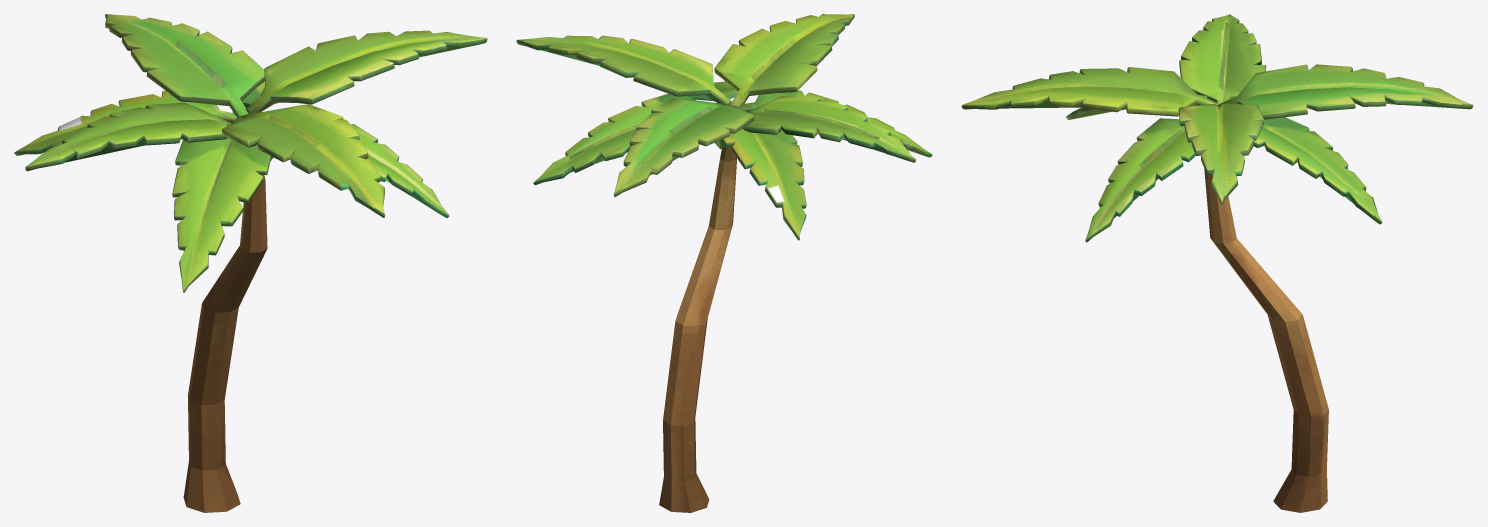
The model's file is finished-tree3.glb.
3 renders of one model, left to right at view 1: azimuth 30°, elevation 25°; view 2: azimuth 150°, elevation 25°; view 3: azimuth 270°, elevation 25°, orthographic. The views are drawn at different scales.
Visible parts, largest first — view 1: Icosphere.001; view 2: Icosphere.001; view 3: Icosphere.001.
Boxes of the visible parts, x1,y1,x2,y2 form: Icosphere.001: [14, 14, 487, 512]; Icosphere.001: [516, 14, 932, 512]; Icosphere.001: [961, 14, 1473, 512].
Size of the model in its own units: 18.02 by 17.08 by 18.84.
Materials: 1 (1 with a texture image).
